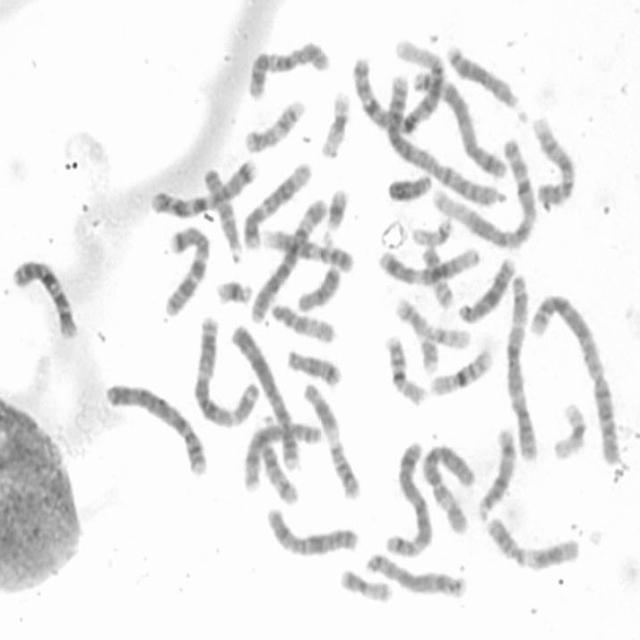A1: (427, 132, 538, 250), (349, 34, 449, 136)
A2: (526, 288, 624, 467), (379, 80, 508, 211)
A3: (188, 310, 261, 428), (503, 268, 542, 462)
B4: (226, 316, 304, 472), (100, 375, 211, 478)
B5: (408, 66, 507, 180), (382, 436, 434, 559)
C10: (8, 252, 79, 340), (245, 35, 332, 101)
C11: (299, 376, 363, 501), (481, 510, 582, 572)
C12: (239, 154, 315, 251), (374, 240, 481, 286)
C6: (246, 191, 329, 323), (418, 438, 478, 536)
C7: (147, 153, 261, 220), (160, 220, 213, 318)
C8: (237, 415, 321, 492), (362, 548, 469, 600)
C9: (258, 222, 358, 274), (529, 110, 578, 208)
D13: (442, 37, 530, 123), (455, 253, 518, 325)
D14: (473, 422, 518, 522), (250, 422, 300, 507)
D15: (199, 161, 245, 263), (266, 297, 337, 344)
E16: (426, 342, 496, 398), (381, 328, 428, 407)
E17: (392, 292, 472, 351), (240, 93, 308, 155)
E18: (282, 343, 344, 388), (294, 261, 343, 314)
F19: (316, 84, 352, 160), (548, 396, 590, 461)
F20: (417, 240, 456, 310), (336, 564, 394, 604)
G21: (319, 180, 351, 243), (212, 273, 254, 306)
G22: (408, 212, 455, 247), (426, 320, 471, 350)
X: (262, 502, 361, 559)
Y: (384, 169, 434, 203)
